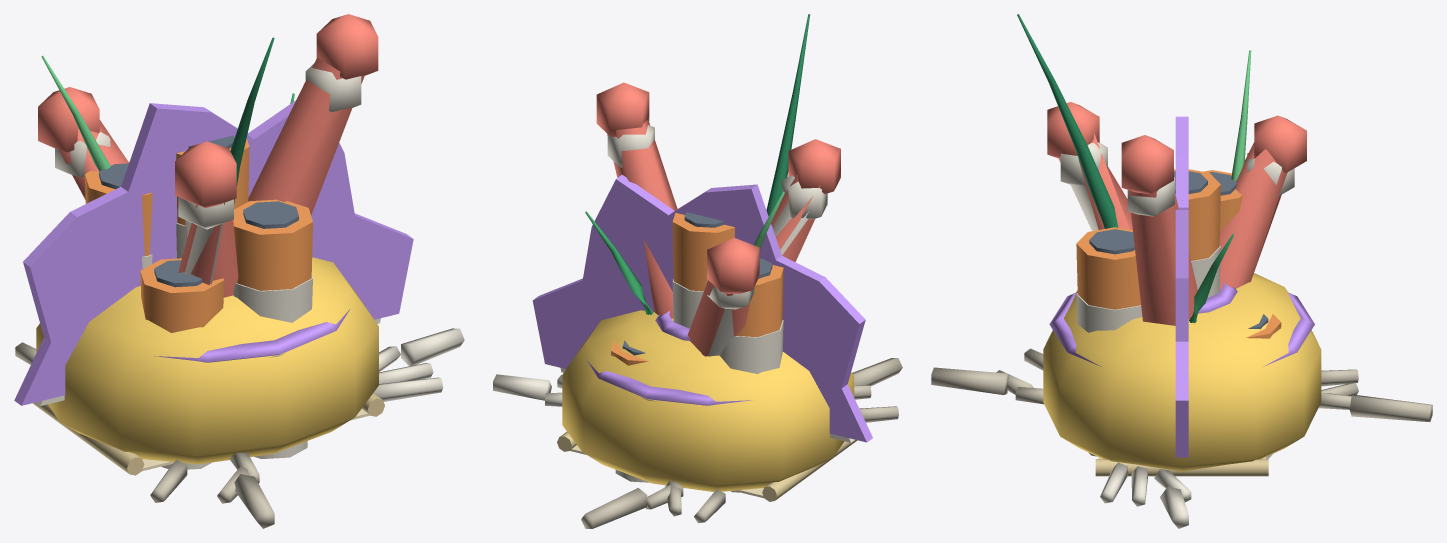
The model's file is recife-props.glb.
3 views of the same model, side by side, from view 1: azimuth 30°, elevation 25°; view 2: azimuth 150°, elevation 25°; view 3: azimuth 270°, elevation 25° (orthographic). The views are drawn at different scales.
Parts seen in each view (by area): view 1: coral-cerebro, coral-leque, coral-galho, coral-tubo, coral-galho-desbotado, coral-tubo-desbotado, coral-cerebro-desbotado, alga, mapa-aberto, coral-leque-desbotado; view 2: coral-cerebro, coral-leque, coral-galho, coral-tubo, coral-galho-desbotado, coral-tubo-desbotado, coral-cerebro-desbotado, alga, mapa-aberto, coral-leque-desbotado; view 3: coral-cerebro, coral-galho, coral-tubo, coral-leque, coral-galho-desbotado, alga, coral-cerebro-desbotado, coral-tubo-desbotado, mapa-aberto, coral-leque-desbotado.
Part boxes in pixels (<box>): coral-cerebro: <box>36,257,378,464</box>; coral-leque: <box>14,100,413,405</box>; coral-galho: <box>38,14,378,297</box>; coral-tubo: <box>85,135,312,332</box>; coral-galho-desbotado: <box>15,64,400,503</box>; coral-tubo-desbotado: <box>142,223,443,502</box>; coral-cerebro-desbotado: <box>234,328,464,528</box>; alga: <box>41,37,294,203</box>; mapa-aberto: <box>32,393,384,475</box>; coral-leque-desbotado: <box>35,318,433,483</box>; coral-cerebro: <box>562,310,854,491</box>; coral-leque: <box>532,174,872,442</box>; coral-galho: <box>596,82,840,356</box>; coral-tubo: <box>611,212,783,365</box>; coral-galho-desbotado: <box>545,125,871,523</box>; coral-tubo-desbotado: <box>615,279,898,516</box>; coral-cerebro-desbotado: <box>493,358,902,528</box>; alga: <box>585,14,810,314</box>; mapa-aberto: <box>557,432,857,501</box>; coral-leque-desbotado: <box>557,368,854,509</box>; coral-cerebro: <box>1043,273,1321,471</box>; coral-galho: <box>1047,102,1306,325</box>; coral-tubo: <box>1076,169,1281,338</box>; coral-leque: <box>1175,116,1188,457</box>; coral-galho-desbotado: <box>996,142,1358,502</box>; alga: <box>1017,14,1251,323</box>; coral-cerebro-desbotado: <box>931,367,1432,528</box>; coral-tubo-desbotado: <box>1024,246,1358,503</box>; mapa-aberto: <box>1095,457,1268,476</box>; coral-leque-desbotado: <box>1015,387,1351,506</box>.
Size of the model in its own units: 1.76 by 1.84 by 1.94.
